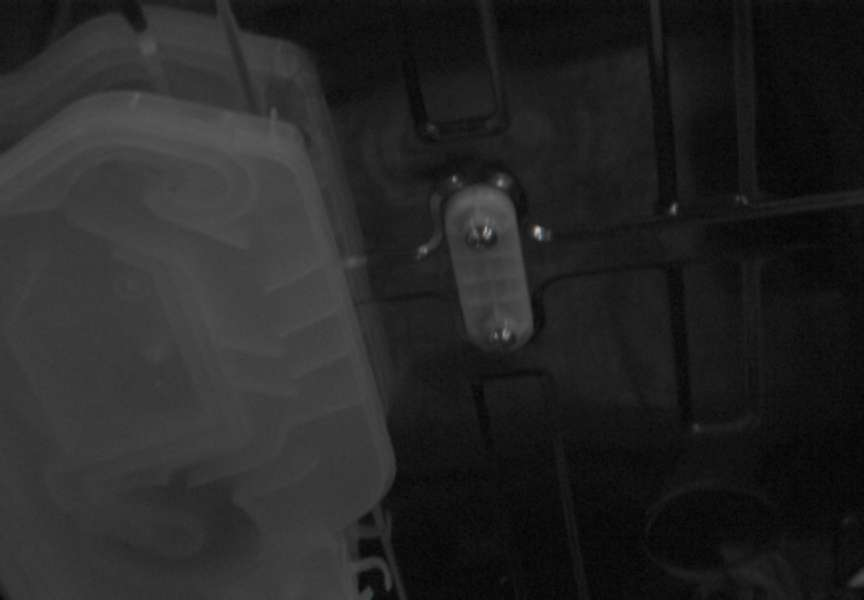screw: (465, 222, 498, 250), (488, 325, 517, 350)
